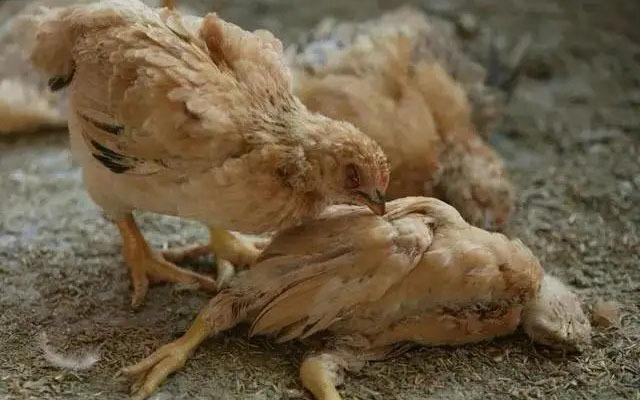AbNormal: (120, 191, 599, 400)
